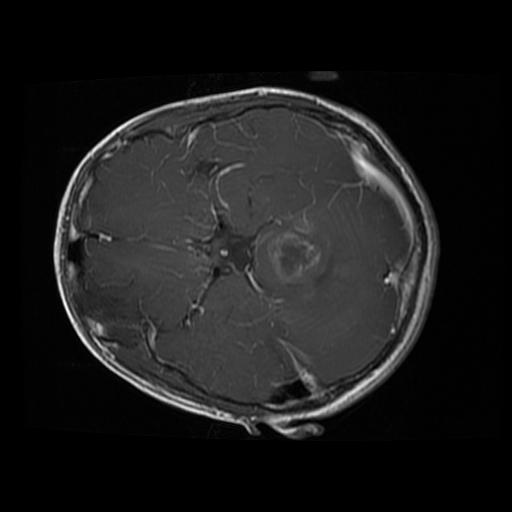glioma: (259, 217, 327, 296)
